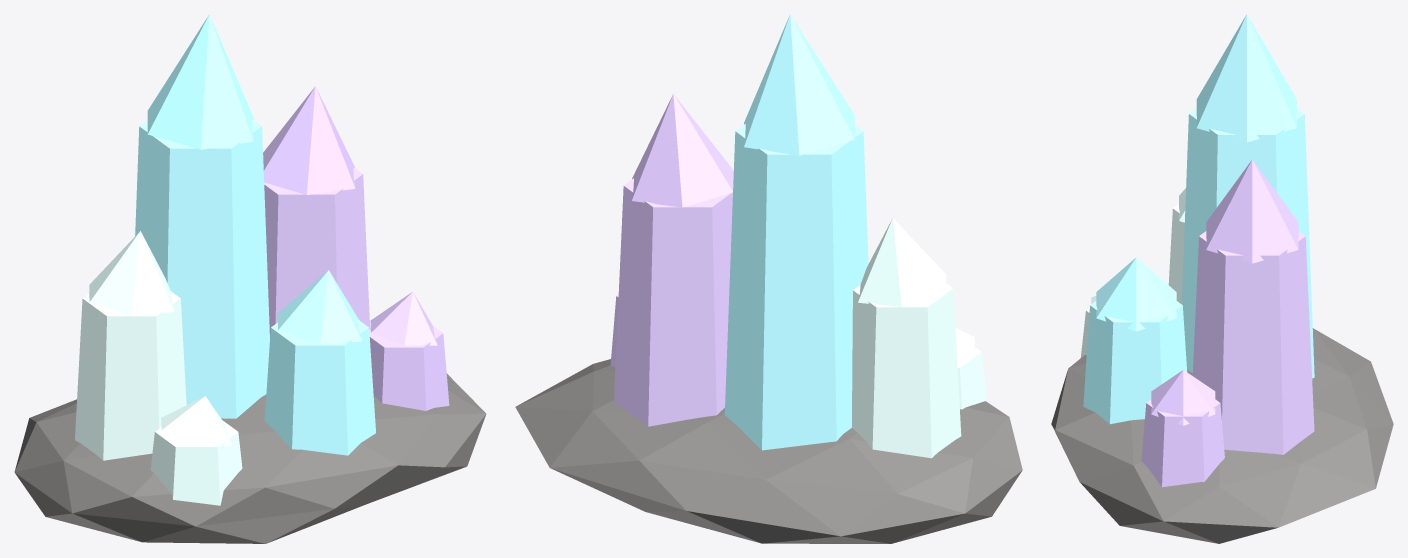
The model's file is cave_detail_crystals.glb.
3 renders of one model, left to right at view 1: azimuth 30°, elevation 25°; view 2: azimuth 150°, elevation 25°; view 3: azimuth 270°, elevation 25°, orthographic. The views are drawn at different scales.
Visible parts, largest first — view 1: Quartz bed, Hexagonal quartz shaft, Hexagonal quartz shaft.002, Hexagonal quartz shaft.003, Hexagonal quartz shaft.001, Quartz termination, Quartz termination.001, Hexagonal quartz shaft.005, Hexagonal quartz shaft.004, Quartz termination.002, Quartz termination.003, Quartz termination.004 (+1 smaller); view 2: Quartz bed, Hexagonal quartz shaft, Hexagonal quartz shaft.001, Hexagonal quartz shaft.002, Quartz termination, Quartz termination.001, Quartz termination.002, Hexagonal quartz shaft.005; view 3: Quartz bed, Hexagonal quartz shaft.001, Hexagonal quartz shaft, Hexagonal quartz shaft.003, Quartz termination, Quartz termination.001, Hexagonal quartz shaft.004, Quartz termination.003, Quartz termination.004, Hexagonal quartz shaft.002.
Boxes of the visible parts, box(x1,y1,x2,y2) form: Quartz bed: box(14, 373, 486, 543); Hexagonal quartz shaft: box(135, 119, 269, 418); Hexagonal quartz shaft.002: box(75, 291, 186, 460); Hexagonal quartz shaft.003: box(264, 320, 375, 455); Hexagonal quartz shaft.001: box(264, 167, 370, 337); Quartz termination: box(147, 14, 253, 149); Quartz termination.001: box(263, 86, 355, 194); Hexagonal quartz shaft.005: box(150, 420, 242, 505); Hexagonal quartz shaft.004: box(369, 326, 449, 410); Quartz termination.002: box(89, 231, 173, 315); Quartz termination.003: box(277, 270, 362, 344); Quartz termination.004: box(370, 291, 437, 345); Quartz bed: box(515, 359, 1022, 543); Hexagonal quartz shaft: box(724, 124, 868, 450); Hexagonal quartz shaft.001: box(613, 178, 732, 426); Hexagonal quartz shaft.002: box(852, 283, 961, 458); Quartz termination: box(744, 14, 854, 155); Quartz termination.001: box(631, 94, 733, 207); Quartz termination.002: box(857, 218, 946, 306); Hexagonal quartz shaft.005: box(957, 347, 986, 409); Quartz bed: box(1051, 328, 1393, 543); Hexagonal quartz shaft.001: box(1192, 231, 1314, 454); Hexagonal quartz shaft: box(1181, 108, 1314, 378); Hexagonal quartz shaft.003: box(1083, 301, 1187, 424); Quartz termination: box(1196, 14, 1296, 142); Quartz termination.001: box(1206, 159, 1298, 263); Hexagonal quartz shaft.004: box(1141, 399, 1224, 487); Quartz termination.003: box(1096, 257, 1176, 331); Quartz termination.004: box(1151, 370, 1215, 425); Hexagonal quartz shaft.002: box(1168, 204, 1184, 303).
Bounding box in the file's own units: 1.69 × 1.79 × 1.24.
